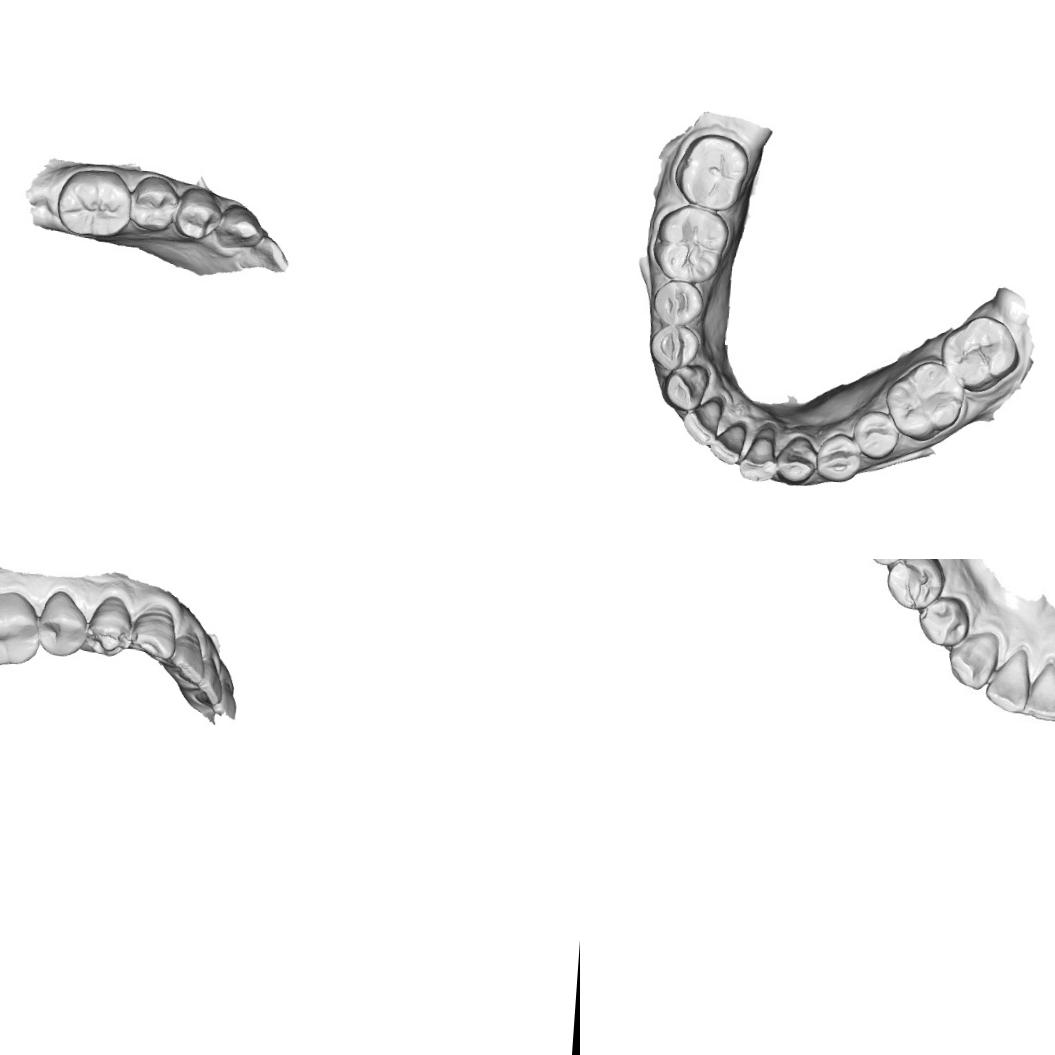canine: (945, 631, 999, 690), (213, 200, 268, 254), (129, 602, 178, 660), (776, 431, 823, 489), (661, 363, 714, 413)
incisor: (984, 652, 1036, 713), (736, 419, 780, 486), (235, 229, 294, 278), (704, 416, 752, 470), (679, 395, 727, 449), (162, 629, 206, 686), (1023, 663, 1055, 723), (195, 655, 225, 708)
molar: (879, 357, 970, 445), (936, 311, 1020, 394), (672, 127, 750, 212), (52, 165, 134, 241), (652, 204, 728, 282), (0, 586, 42, 667)
premolar: (35, 588, 90, 658), (127, 167, 182, 234), (82, 592, 134, 658), (916, 592, 972, 649), (172, 184, 226, 243), (649, 276, 707, 330), (882, 559, 942, 610), (846, 407, 900, 463), (647, 321, 699, 374), (814, 430, 861, 484)
